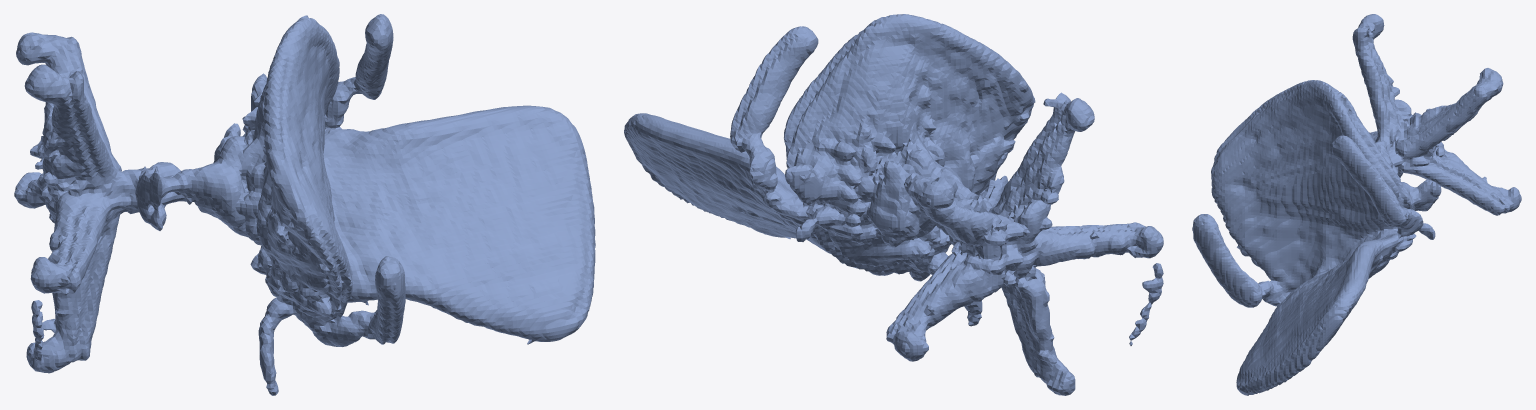
File: raw.glb
3 views of the same model, side by side, from view 1: azimuth 30°, elevation 25°; view 2: azimuth 150°, elevation 25°; view 3: azimuth 270°, elevation 25° (orthographic). The views are drawn at different scales.
Visible parts, largest first — view 1: world; view 2: world; view 3: world.
Part boxes in pixels (<box>): world: <box>14,14,595,395</box>; world: <box>624,14,1163,395</box>; world: <box>1192,14,1521,395</box>.
Size of the model in its own units: 1.1 by 0.6391 by 0.7698.
